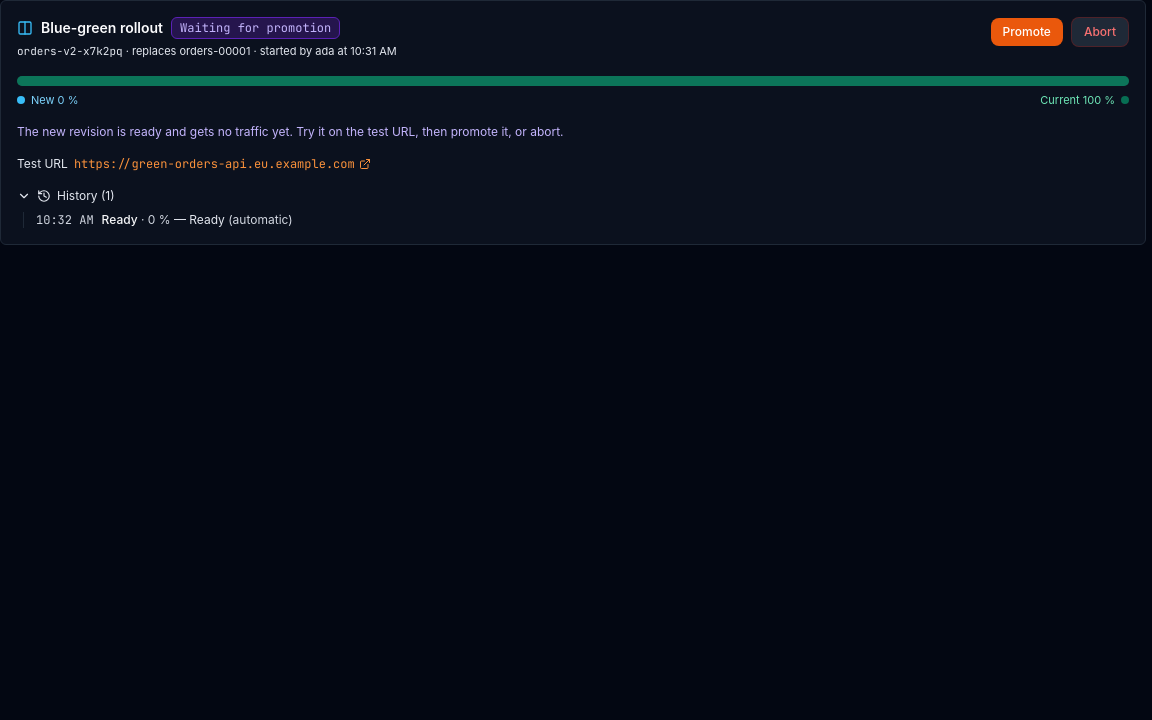
Scenario: RolloutPanel › promotes a blue-green rollout waiting for it, after a confirmation
Step 1. Click the button "Promote" → (1027, 32), box [991, 18, 1063, 46]
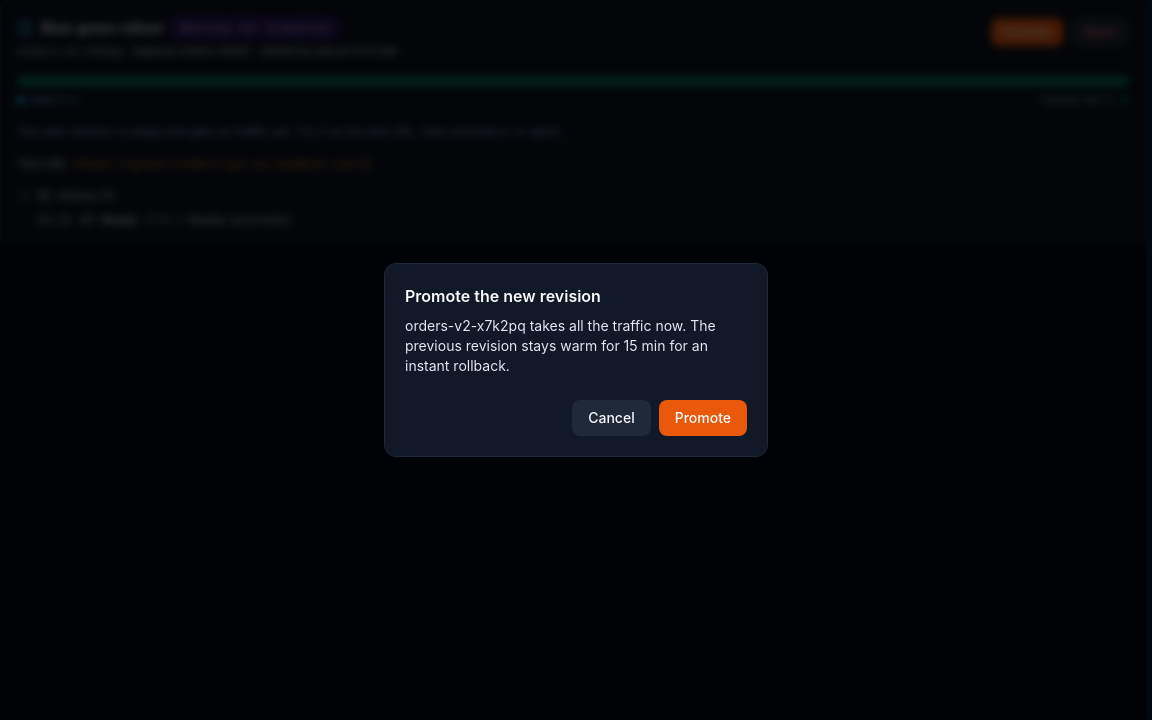
Expected: the heading "Promote the new revision" is shown, [405, 286, 601, 306]
